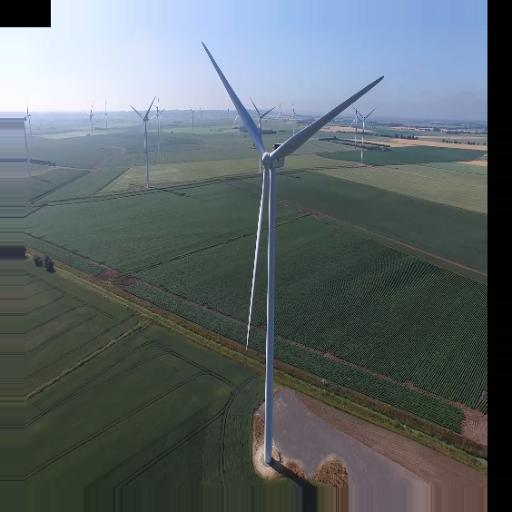wind turbine: (200, 39, 384, 458), (129, 96, 157, 196)
